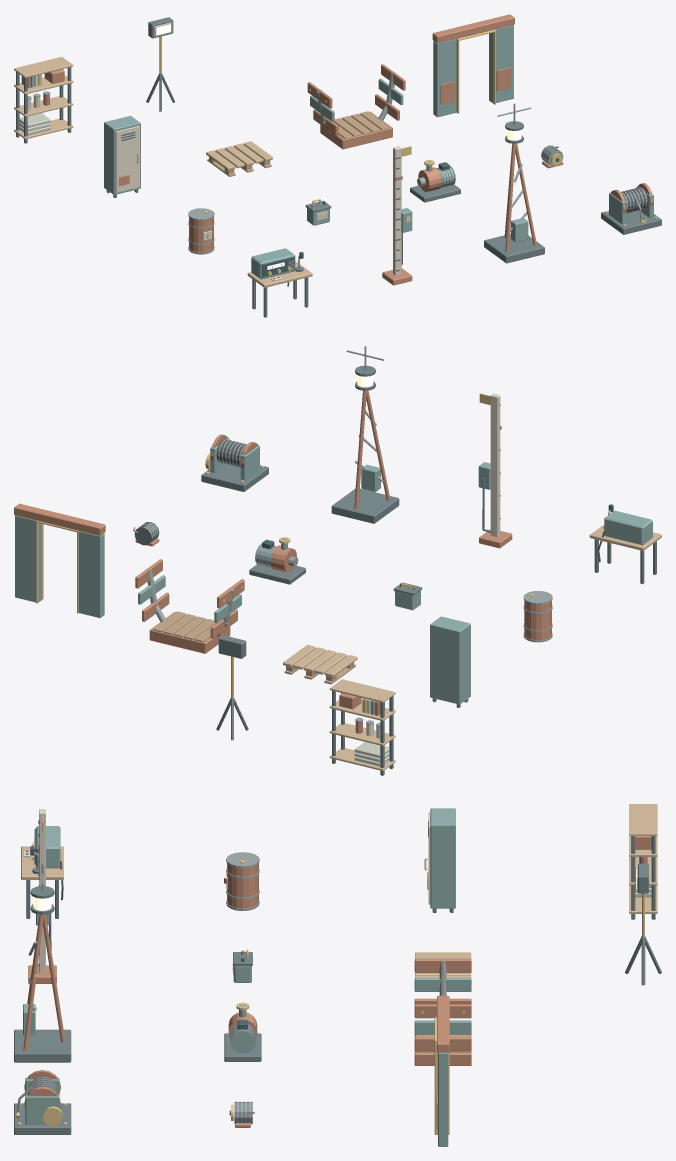
The model's file is salvage_catalog.glb.
3 renders of one model, top to bottom at view 1: azimuth 30°, elevation 25°; view 2: azimuth 150°, elevation 25°; view 3: azimuth 270°, elevation 25°, orthographic. The views are drawn at different scales.
Visible parts, largest first — view 1: wreck_bulkhead_2m, supply_shelf, wreck_rib_2m, signal_beacon, salvage_locker, radio_desk, salvage_winch, tide_gauge, cargo_pallet, water_pump, fuel_drum, floodlight (+1 smaller); view 2: wreck_bulkhead_2m, supply_shelf, wreck_rib_2m, signal_beacon, salvage_locker, salvage_winch, tide_gauge, radio_desk, cargo_pallet, water_pump, fuel_drum, floodlight (+1 smaller); view 3: wreck_rib_2m, signal_beacon, salvage_winch, salvage_locker, supply_shelf, wreck_bulkhead_2m, radio_desk, fuel_drum, water_pump, tide_gauge, floodlight, cargo_pallet (+2 smaller).
Boxes of the visible parts, bbox=[...] form: wreck_bulkhead_2m: bbox=[432, 14, 514, 117]; supply_shelf: bbox=[14, 56, 73, 143]; wreck_rib_2m: bbox=[307, 64, 405, 149]; signal_beacon: bbox=[484, 103, 544, 263]; salvage_locker: bbox=[104, 115, 140, 197]; radio_desk: bbox=[247, 248, 312, 317]; salvage_winch: bbox=[601, 183, 661, 234]; tide_gauge: bbox=[382, 146, 412, 285]; cargo_pallet: bbox=[206, 141, 272, 176]; water_pump: bbox=[410, 160, 460, 202]; fuel_drum: bbox=[188, 208, 214, 254]; floodlight: bbox=[146, 17, 175, 111]; wreck_bulkhead_2m: bbox=[14, 503, 105, 617]; supply_shelf: bbox=[329, 679, 395, 775]; wreck_rib_2m: bbox=[135, 559, 244, 653]; signal_beacon: bbox=[331, 346, 399, 523]; salvage_locker: bbox=[430, 616, 470, 707]; salvage_winch: bbox=[201, 434, 268, 491]; tide_gauge: bbox=[478, 393, 512, 548]; radio_desk: bbox=[589, 504, 661, 584]; cargo_pallet: bbox=[283, 644, 357, 684]; water_pump: bbox=[249, 537, 305, 584]; fuel_drum: bbox=[523, 591, 552, 642]; floodlight: bbox=[216, 635, 248, 740]; wreck_rib_2m: bbox=[414, 958, 471, 1065]; signal_beacon: bbox=[14, 863, 71, 1062]; salvage_winch: bbox=[14, 1070, 71, 1134]; salvage_locker: bbox=[424, 808, 455, 912]; supply_shelf: bbox=[629, 804, 657, 919]; wreck_bulkhead_2m: bbox=[434, 995, 449, 1146]; radio_desk: bbox=[21, 826, 63, 918]; fuel_drum: bbox=[224, 852, 259, 910]; water_pump: bbox=[224, 1002, 261, 1061]; tide_gauge: bbox=[28, 809, 56, 983]; floodlight: bbox=[625, 863, 661, 985]; cargo_pallet: bbox=[415, 952, 471, 977].
Size of the model in its own units: 10.62 by 3.6 by 11.32.
